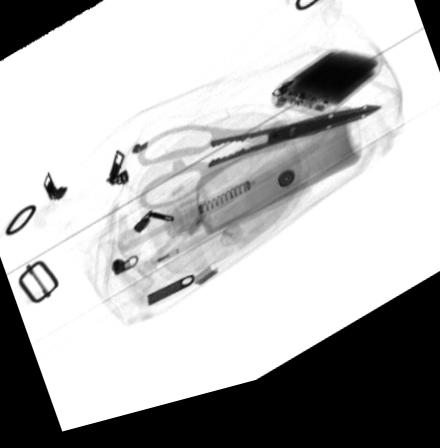Powerbank: (271, 64, 381, 134)
Scissors: (131, 124, 385, 218)
